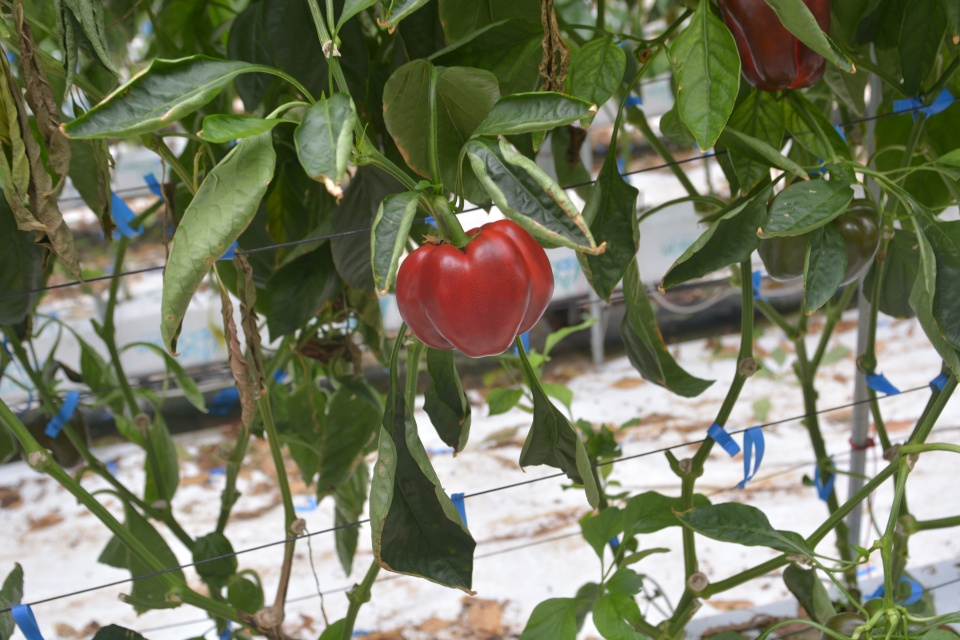fruit: (393, 216, 556, 360), (756, 171, 882, 289), (716, 0, 832, 91), (818, 595, 928, 639)
pedicle: (427, 228, 484, 244)
